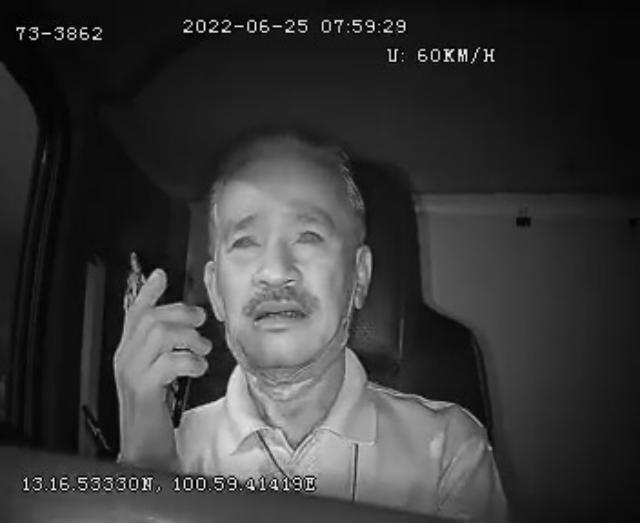PhoneUse: (120, 247, 194, 432)
SafeDriving: (223, 218, 267, 262), (288, 216, 330, 254)
